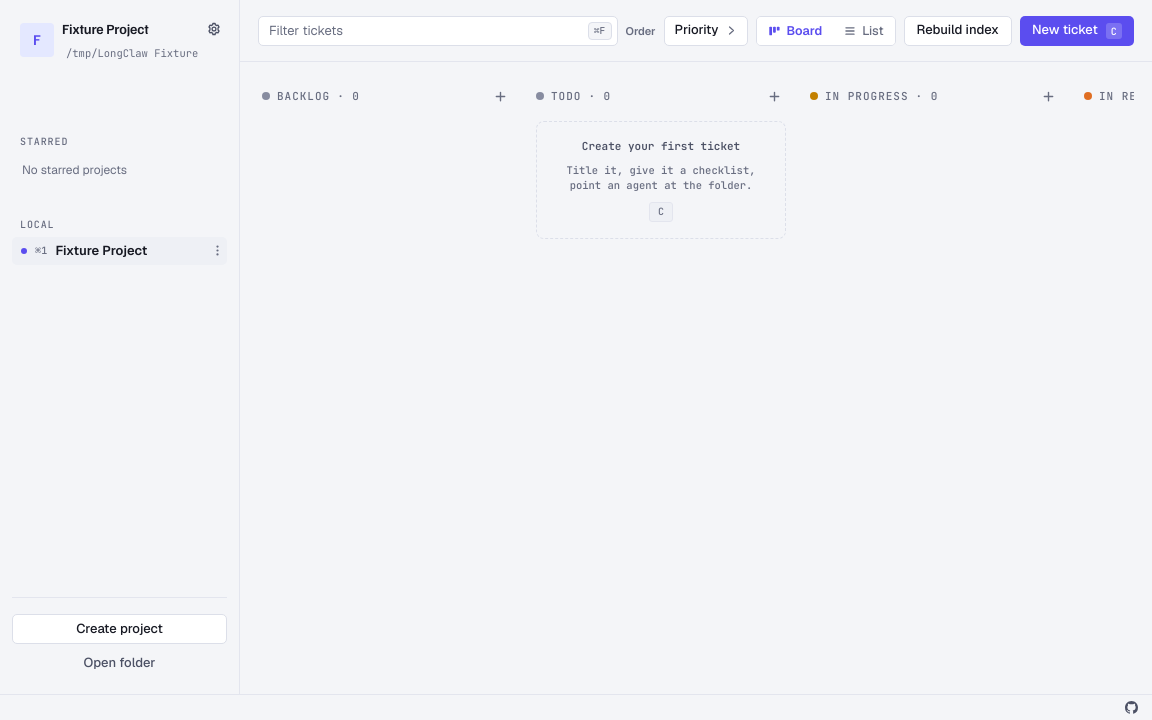
Scenario: optimistic create, write feedback, and undo (V0-17) › undoes a create by archiving, because v0 never deletes a ticket file
The image size is (1152, 720).
Expected: the button "Board" is shown, x1=758 y1=16 x2=833 y2=44
Click the button "New ticketC".
click(1077, 30)  # box x1=1020 y1=16 x2=1134 y2=46
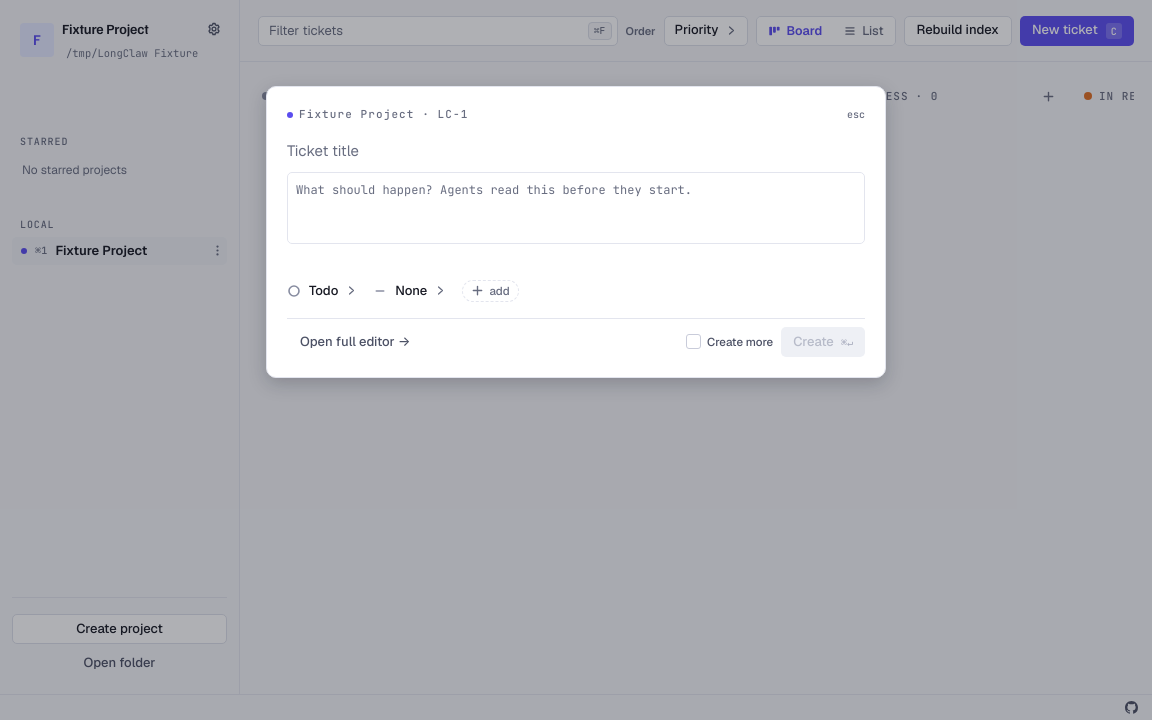
Type "Prove the round trip" into the field labelled "title".
click(576, 150); type("Prove the round trip")  # box x1=287 y1=141 x2=865 y2=160
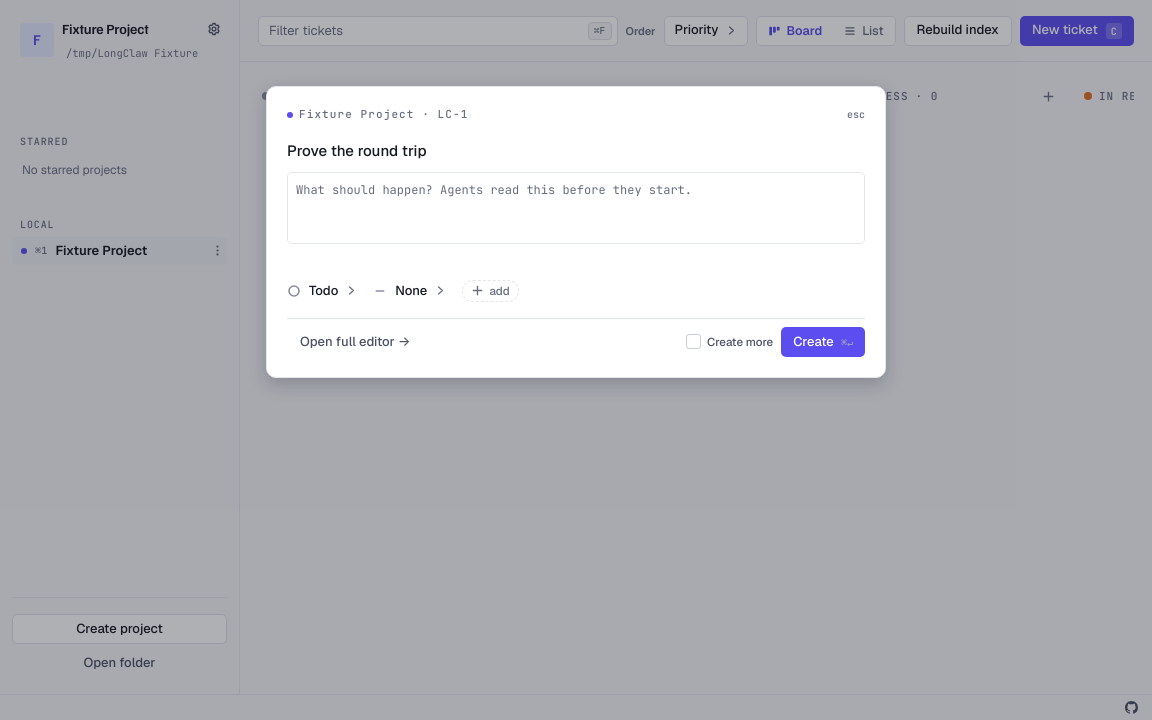
Click the button "Create ⌘↵".
click(823, 342)  # box x1=781 y1=327 x2=865 y2=357
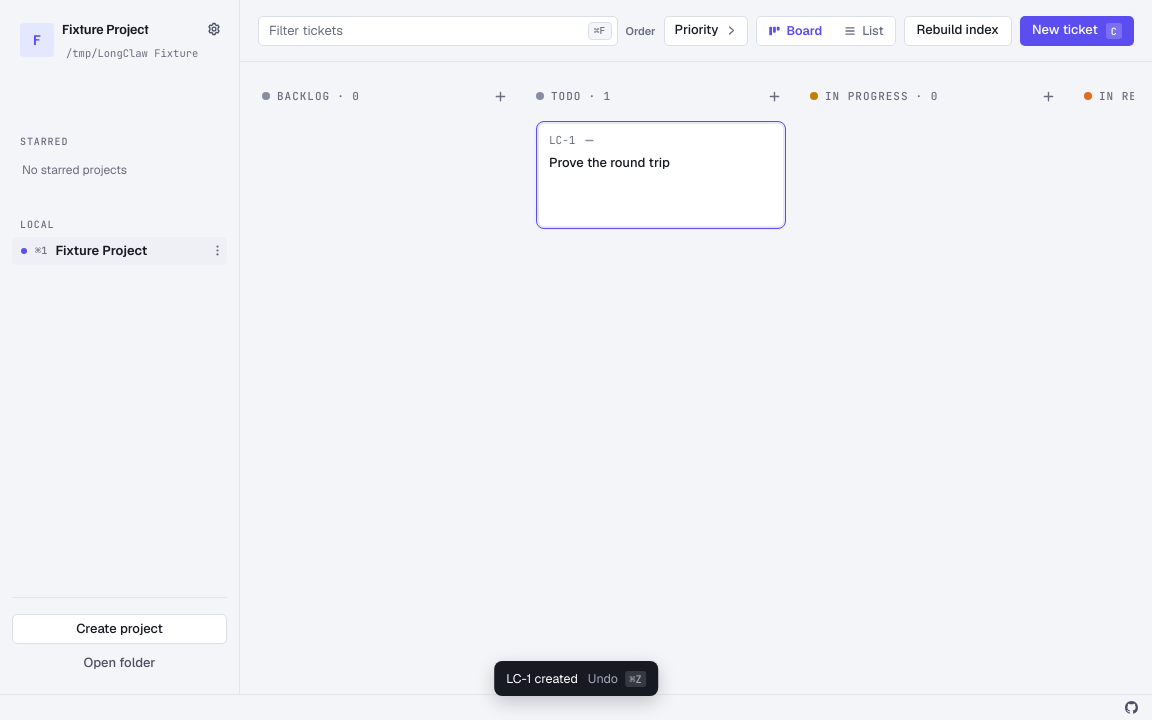
Result: the text "LC-1 created" is shown at x1=506 y1=670 x2=578 y2=687
Press z
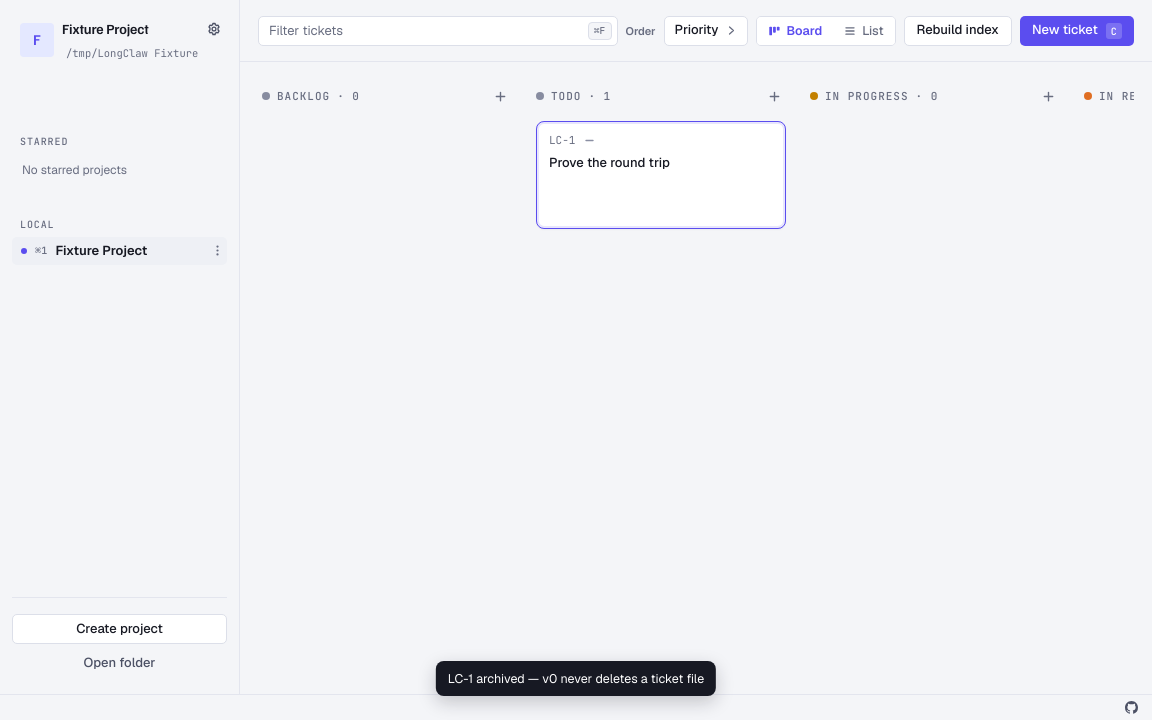
Result: the text "LC-1 archived — v0 never deletes a ticket file" is shown at x1=448 y1=670 x2=704 y2=687
